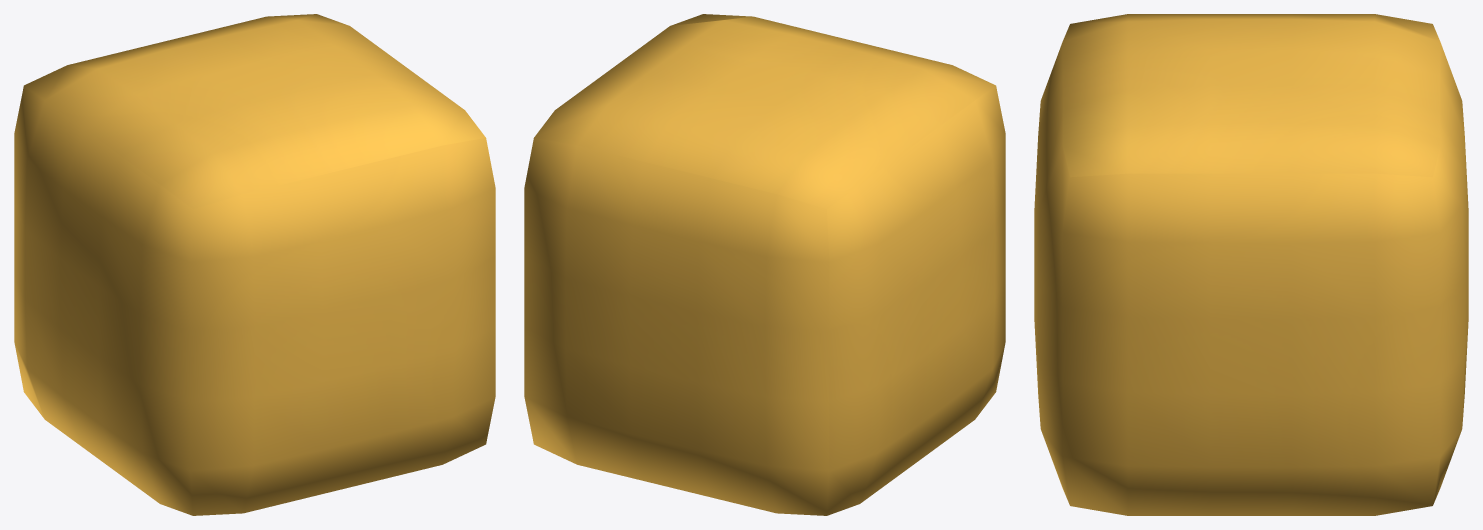
File: 积木方块16.glb
The picture shows the model from 3 angles, left to right: view 1: azimuth 30°, elevation 25°; view 2: azimuth 150°, elevation 25°; view 3: azimuth 270°, elevation 25°; orthographic projection. The views are drawn at different scales.
Visible parts, largest first — view 1: BlockCube16; view 2: BlockCube16; view 3: BlockCube16.
Boxes of the visible parts, bbox=[...] form: BlockCube16: bbox=[14, 14, 495, 515]; BlockCube16: bbox=[524, 14, 1005, 515]; BlockCube16: bbox=[1034, 14, 1468, 515].
Size of what is drawn, in the model's own units: 0.1688 by 0.1688 by 0.1688.
1 material, 1 textured.
